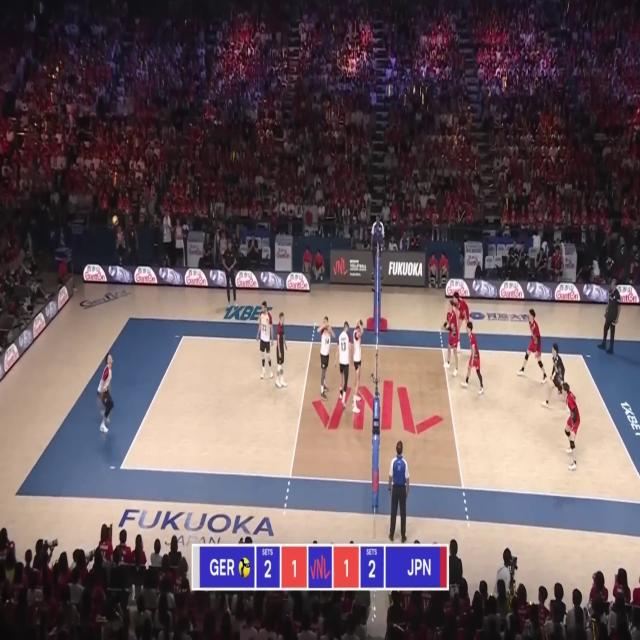referee: (388, 442, 410, 544)
team_one: (316, 316, 334, 399), (97, 352, 115, 434), (350, 320, 365, 417), (334, 322, 350, 405), (257, 301, 273, 381), (272, 312, 288, 388)
team_two: (518, 310, 548, 377), (463, 320, 485, 393), (561, 383, 580, 467), (544, 347, 570, 406), (444, 301, 462, 377), (452, 288, 472, 332)
